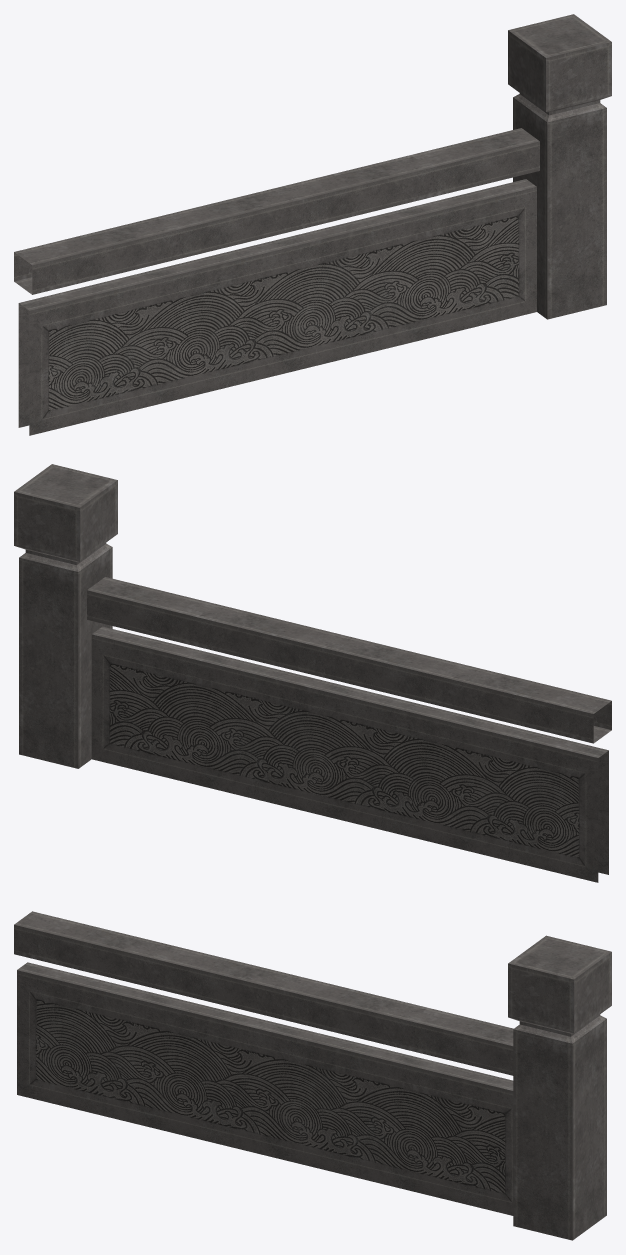
The model's file is M_WYG_langan_001.FBX.
The picture shows the model from 3 angles, top to bottom: view 1: azimuth 30°, elevation 25°; view 2: azimuth 150°, elevation 25°; view 3: azimuth 330°, elevation 25°; orthographic projection.
Visible parts, largest first — view 1: M_WYG_langan_001; view 2: M_WYG_langan_001; view 3: M_WYG_langan_001.
Part boxes in pixels (left/top/right/bottom): M_WYG_langan_001: left=14, top=14, right=611, bottom=435; M_WYG_langan_001: left=14, top=464, right=611, bottom=882; M_WYG_langan_001: left=14, top=911, right=611, bottom=1240.
Bounding box in the file's own units: 332 × 147 × 38.38.
